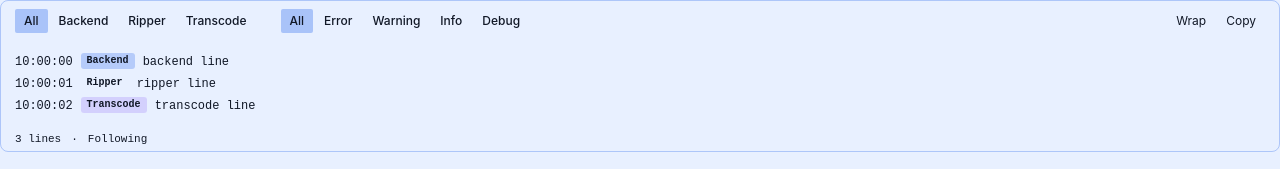
Test case: LogView › filters by level
What coordinates should you click on to do the following:
click the radio button with test id "job-log-level-error"
I would click on:
 (338, 21)
Its box is 315,9 -> 361,33.
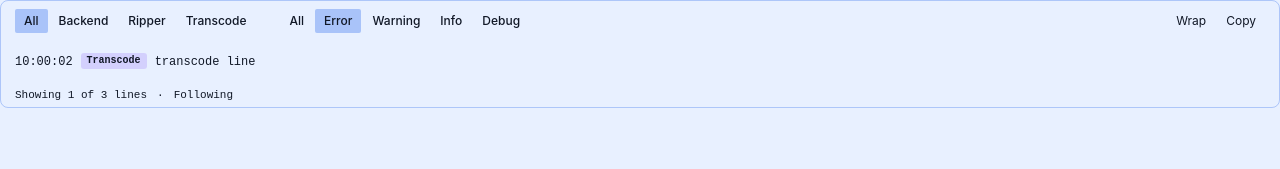
Expected: the text "transcode line" is shown, 155,53 -> 255,71
Expected: the text "backend line" is gone
Expected: the text "ripper line" is gone
